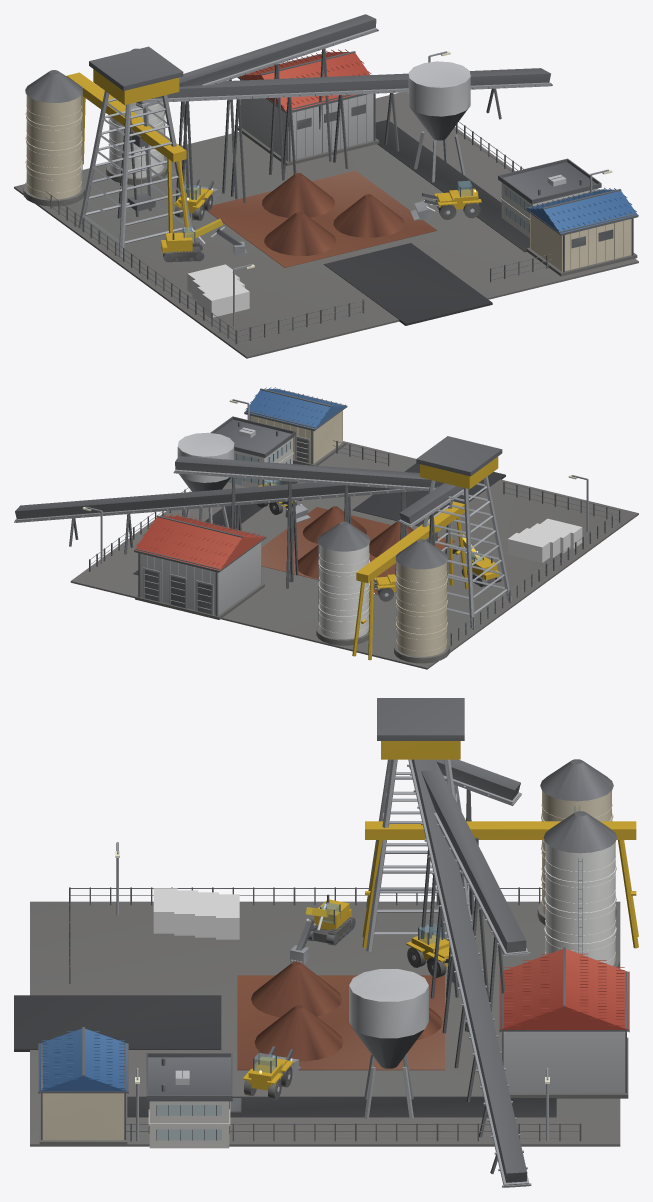
Rendered from Depot_P2.fbx.
The picture shows the model from 3 angles, top to bottom: view 1: azimuth 30°, elevation 25°; view 2: azimuth 150°, elevation 25°; view 3: azimuth 270°, elevation 25°; orthographic projection. The views are drawn at different scales.
Parts seen in each view (by area): view 1: Depot.Yard, Depot.Tower, Depot.Shed1, Depot.ConvMain, Depot.Shed2, Depot.Silo0, Depot.ConvA, Depot.Hopper, Depot.Office, Depot.Gantry, Depot.Fence, Depot.Containers (+7 smaller); view 2: Depot.Yard, Depot.Shed1, Depot.ConvMain, Depot.Tower, Depot.Silo0, Depot.ConvA, Depot.Silo1, Depot.Shed2, Depot.Office, Depot.Gantry, Depot.Fence, Depot.Containers (+8 smaller); view 3: Depot.Yard, Depot.Shed1, Depot.ConvMain, Depot.Shed2, Depot.Silo1, Depot.Tower, Depot.Office, Depot.Hopper, Depot.ConvA, Depot.Gantry, Depot.Containers, Depot.Silo0 (+7 smaller).
Part boxes in pixels (box(x1,y1,x2,y2)): Depot.Yard: box(14, 92, 638, 358); Depot.Tower: box(78, 46, 193, 257); Depot.Shed1: box(237, 49, 379, 165); Depot.ConvMain: box(139, 68, 552, 220); Depot.Shed2: box(525, 187, 638, 276); Depot.Silo0: box(23, 70, 84, 206); Depot.ConvA: box(136, 14, 378, 217); Depot.Hopper: box(408, 61, 470, 182); Depot.Office: box(498, 158, 601, 238); Depot.Gantry: box(66, 72, 189, 232); Depot.Fence: box(45, 121, 551, 344); Depot.Containers: box(187, 264, 249, 317); Depot.Yard: box(70, 441, 638, 669); Depot.Shed1: box(134, 514, 266, 619); Depot.ConvMain: box(14, 482, 438, 582); Depot.Tower: box(416, 436, 511, 628); Depot.Silo0: box(394, 539, 449, 663); Depot.ConvA: box(173, 456, 443, 588); Depot.Silo1: box(316, 521, 370, 645); Depot.Shed2: box(244, 387, 347, 465); Depot.Office: box(210, 416, 295, 487); Depot.Gantry: box(352, 501, 468, 660); Depot.Fence: box(89, 440, 620, 645); Depot.Containers: box(507, 518, 582, 562); Depot.Yard: box(14, 901, 620, 1146); Depot.Shed1: box(499, 947, 629, 1098); Depot.ConvMain: box(408, 759, 531, 1187); Depot.Shed2: box(38, 1027, 128, 1145); Depot.Silo1: box(543, 811, 619, 968); Depot.Tower: box(366, 698, 474, 951); Depot.Office: box(146, 1053, 241, 1148); Depot.Hopper: box(349, 969, 428, 1118); Depot.ConvA: box(407, 760, 530, 1031); Depot.Gantry: box(362, 821, 638, 948); Depot.Containers: box(153, 888, 239, 939); Depot.Silo0: box(537, 759, 616, 925).
Size of the model in its own units: 9109 by 2967 by 7833.
